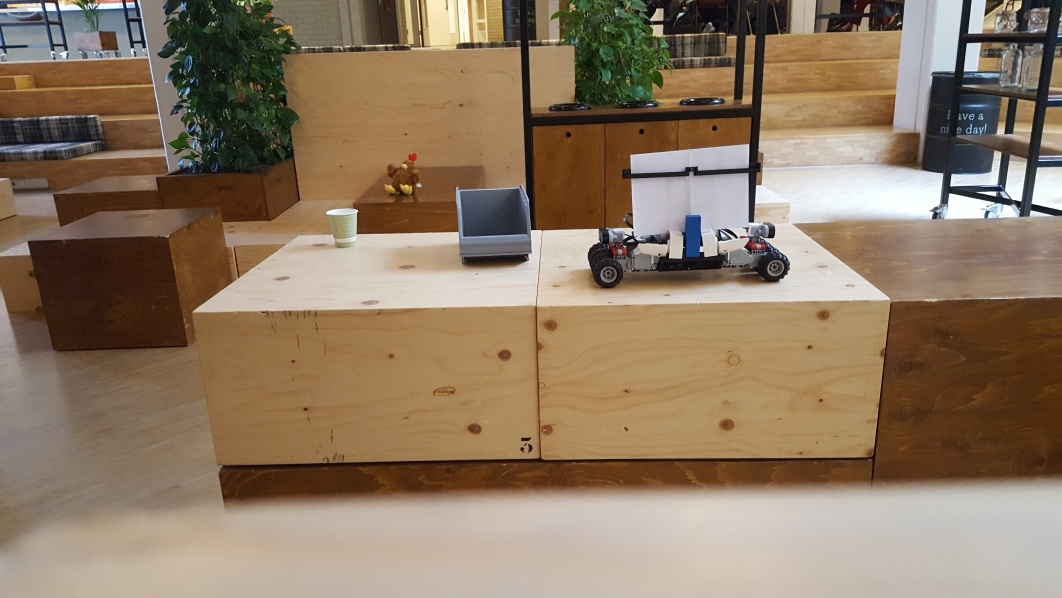car: (587, 141, 791, 291)
chicken: (383, 153, 425, 199)
cup: (324, 206, 359, 247)
tray: (453, 181, 534, 264)
